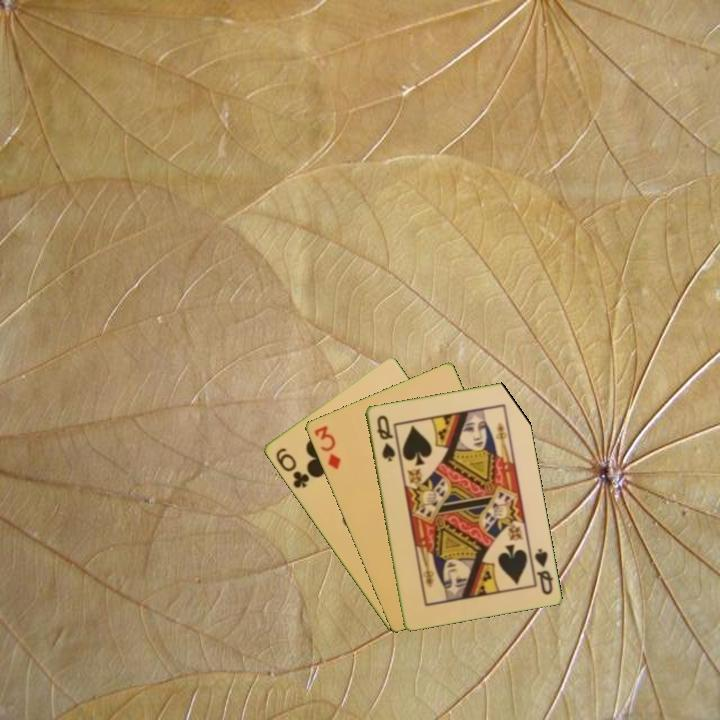3d: (310, 422, 343, 472)
6c: (271, 444, 312, 491)
Qs: (373, 411, 398, 464), (530, 545, 555, 598)
